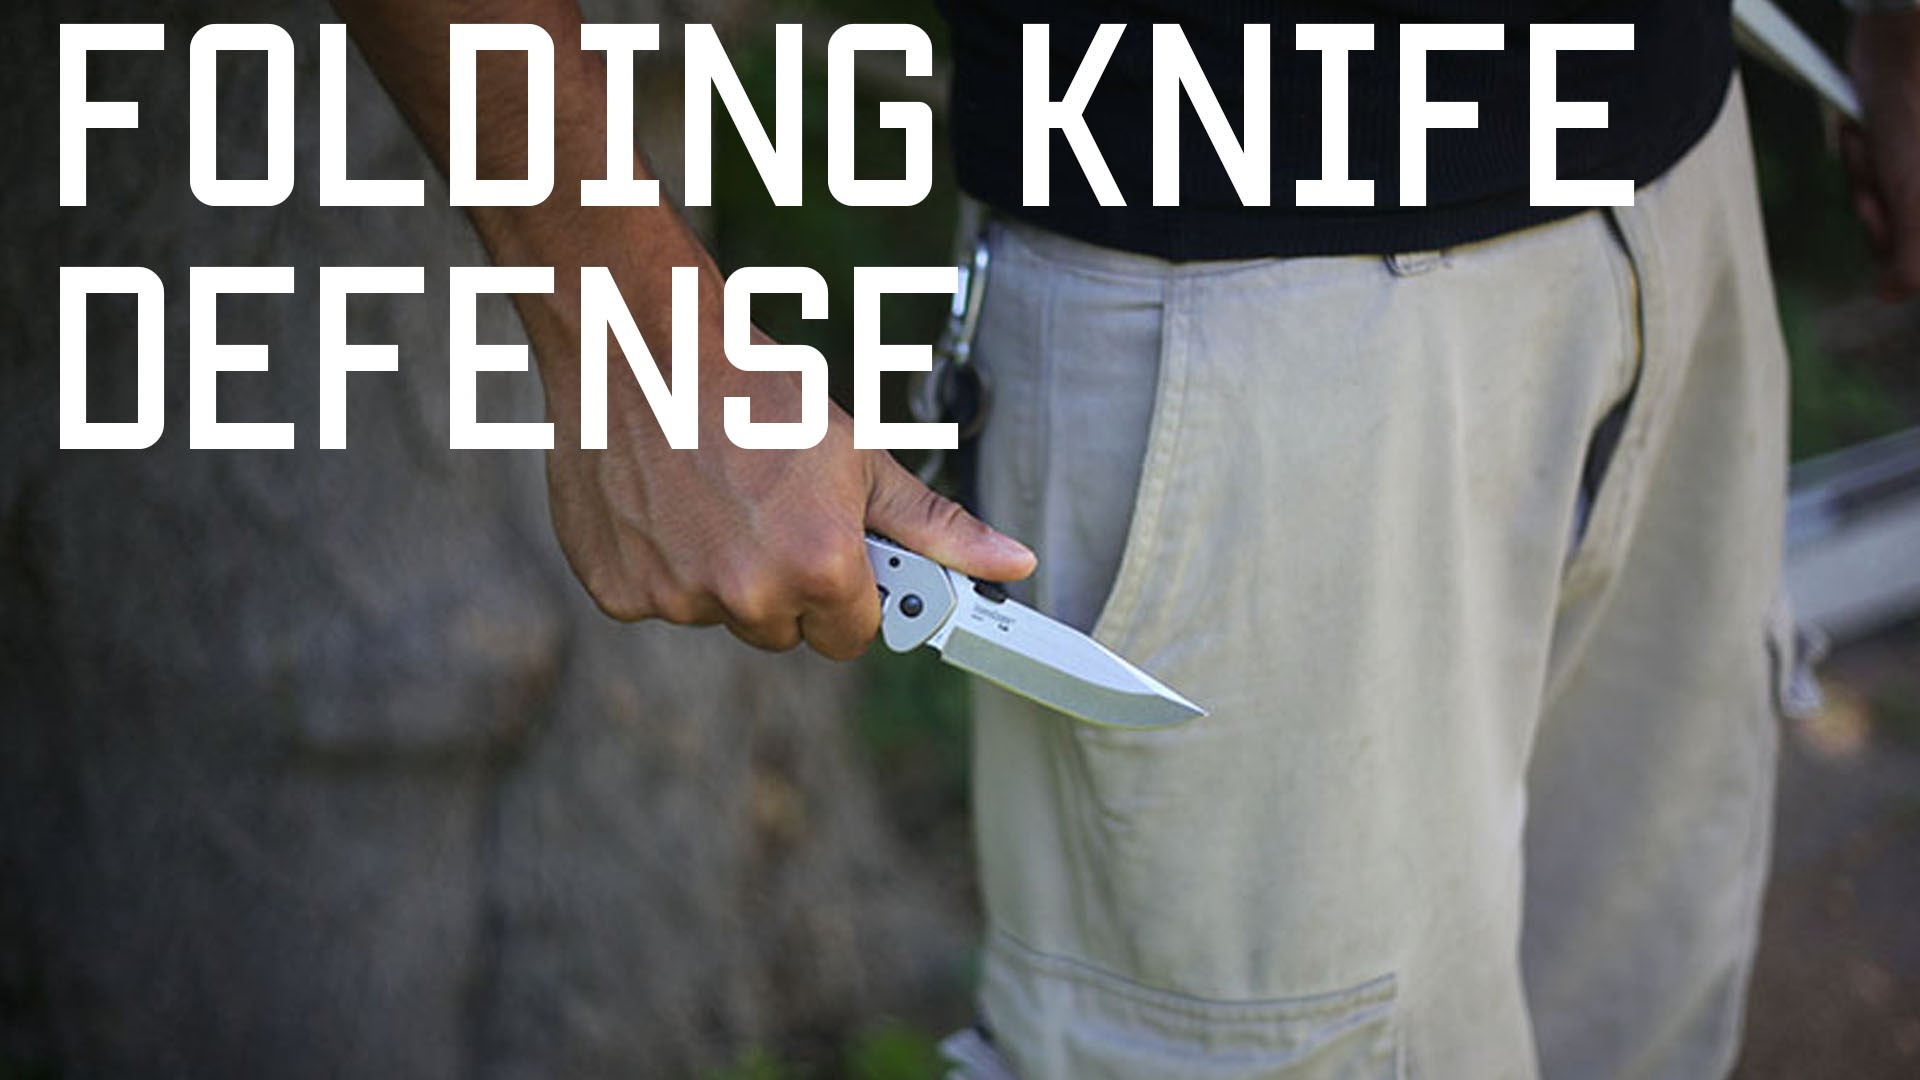knife: (535, 458, 1226, 740)
